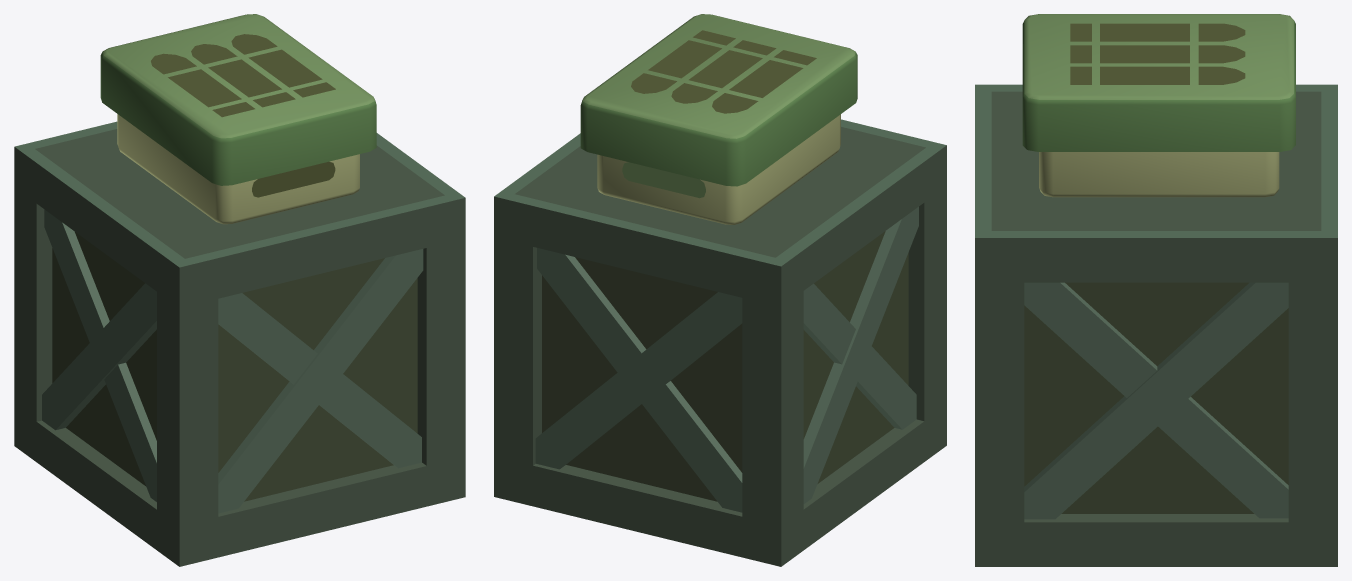
The model's file is slot2-qGLEp5l6.glb.
3 renders of one model, left to right at view 1: azimuth 30°, elevation 25°; view 2: azimuth 150°, elevation 25°; view 3: azimuth 270°, elevation 25°, orthographic. The views are drawn at different scales.
Visible parts, largest first — view 1: MachineSlot_2; view 2: MachineSlot_2; view 3: MachineSlot_2.
Part boxes in pixels (x1,y1,x2,y2): MachineSlot_2: [14, 14, 465, 566]; MachineSlot_2: [494, 14, 946, 566]; MachineSlot_2: [975, 14, 1337, 566].
Bounding box in the file's own units: 0.7929 × 1.05 × 0.7929.
Materials: 1 (1 with a texture image).
